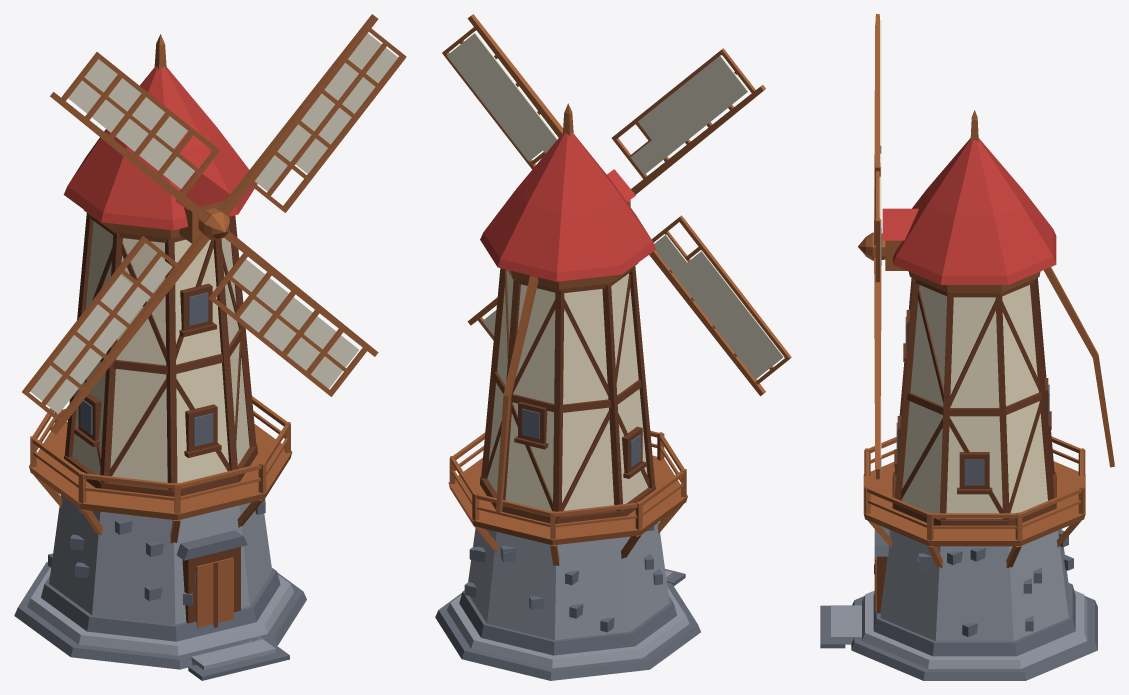
File: Plains_1_Windmill.fbx
The picture shows the model from 3 angles, left to right: view 1: azimuth 30°, elevation 25°; view 2: azimuth 150°, elevation 25°; view 3: azimuth 270°, elevation 25°; orthographic projection. The views are drawn at different scales.
Visible parts, largest first — view 1: Plains_1_Windmill_Blades__Common_Wood, Plains_1_Windmill__Common_Stone, Plains_1_Windmill_Blades__Common_Cloth, Plains_1_Windmill__Hub_Wall, Plains_1_Windmill__Hub_Timber, Plains_1_Windmill__Common_Wood, Plains_1_Windmill__Common_StoneDark, Plains_1_Windmill__Hub_Roof; view 2: Plains_1_Windmill__Hub_Wall, Plains_1_Windmill__Common_Stone, Plains_1_Windmill_Blades__Common_Cloth, Plains_1_Windmill__Hub_Roof, Plains_1_Windmill__Hub_Timber, Plains_1_Windmill__Common_Wood, Plains_1_Windmill__Common_StoneDark, Plains_1_Windmill_Blades__Common_Wood; view 3: Plains_1_Windmill__Hub_Wall, Plains_1_Windmill__Common_Stone, Plains_1_Windmill__Hub_Roof, Plains_1_Windmill__Hub_Timber, Plains_1_Windmill__Common_Wood, Plains_1_Windmill__Common_StoneDark, Plains_1_Windmill_Blades__Common_Wood, Plains_1_Windmill_Blades__Common_Cloth.
Boxes of the visible parts, <box> form: Plains_1_Windmill_Blades__Common_Wood: <box>22,14,406,434</box>; Plains_1_Windmill__Common_Stone: <box>27,495,293,670</box>; Plains_1_Windmill_Blades__Common_Cloth: <box>30,33,398,413</box>; Plains_1_Windmill__Hub_Wall: <box>72,221,249,482</box>; Plains_1_Windmill__Hub_Timber: <box>64,213,257,627</box>; Plains_1_Windmill__Common_Wood: <box>29,34,292,627</box>; Plains_1_Windmill__Common_StoneDark: <box>14,292,306,680</box>; Plains_1_Windmill__Hub_Roof: <box>63,66,257,230</box>; Plains_1_Windmill__Hub_Wall: <box>487,270,648,511</box>; Plains_1_Windmill__Common_Stone: <box>447,522,689,668</box>; Plains_1_Windmill_Blades__Common_Cloth: <box>447,33,783,379</box>; Plains_1_Windmill__Hub_Roof: <box>480,132,656,281</box>; Plains_1_Windmill__Hub_Timber: <box>480,266,655,523</box>; Plains_1_Windmill__Common_Wood: <box>448,103,687,565</box>; Plains_1_Windmill__Common_StoneDark: <box>435,408,700,680</box>; Plains_1_Windmill_Blades__Common_Wood: <box>442,14,791,396</box>; Plains_1_Windmill__Hub_Wall: <box>901,285,1047,518</box>; Plains_1_Windmill__Common_Stone: <box>831,529,1087,668</box>; Plains_1_Windmill__Hub_Roof: <box>882,138,1056,284</box>; Plains_1_Windmill__Hub_Timber: <box>874,277,1056,613</box>; Plains_1_Windmill__Common_Wood: <box>863,110,1114,613</box>; Plains_1_Windmill__Common_StoneDark: <box>820,316,1097,680</box>; Plains_1_Windmill_Blades__Common_Wood: <box>858,14,885,479</box>; Plains_1_Windmill_Blades__Common_Cloth: <box>879,20,881,472</box>.
Size of the model in its own units: 46.28 by 71.92 by 34.08.
